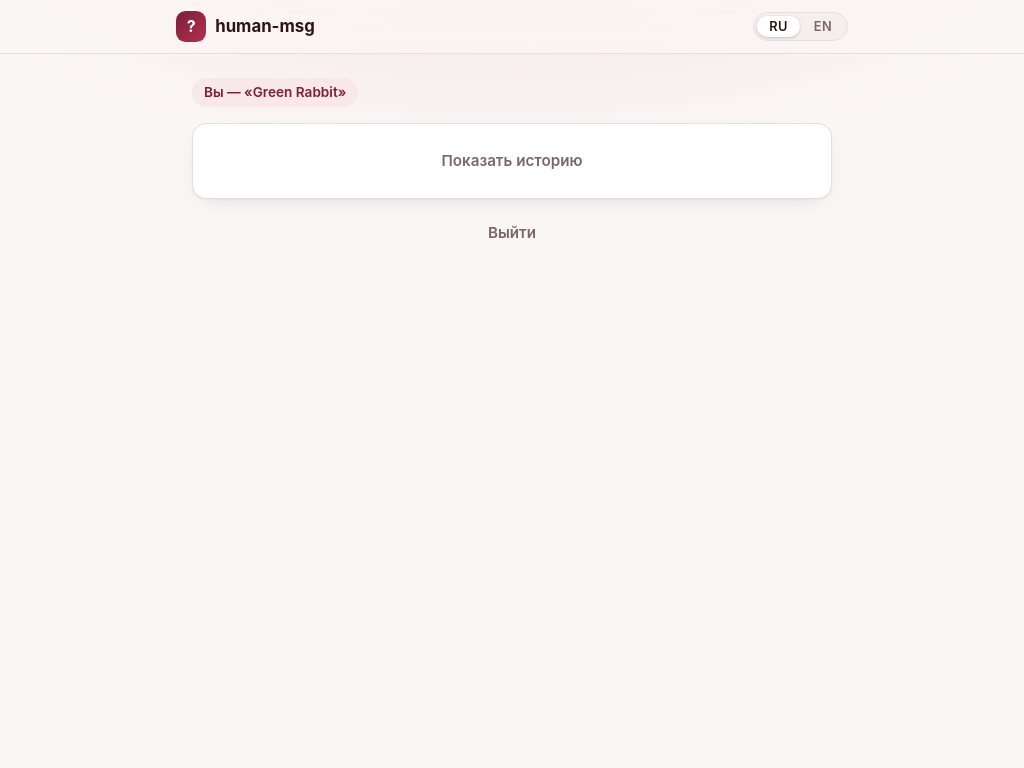
Test: Home and the WebSocket › connects after sign-in and closes the socket on sign-out
expect the text "Вы — «Green Rabbit»" is shown: met, box [192, 78, 358, 107]
Click the button "Выйти": point(512, 233) [476, 215, 548, 250]
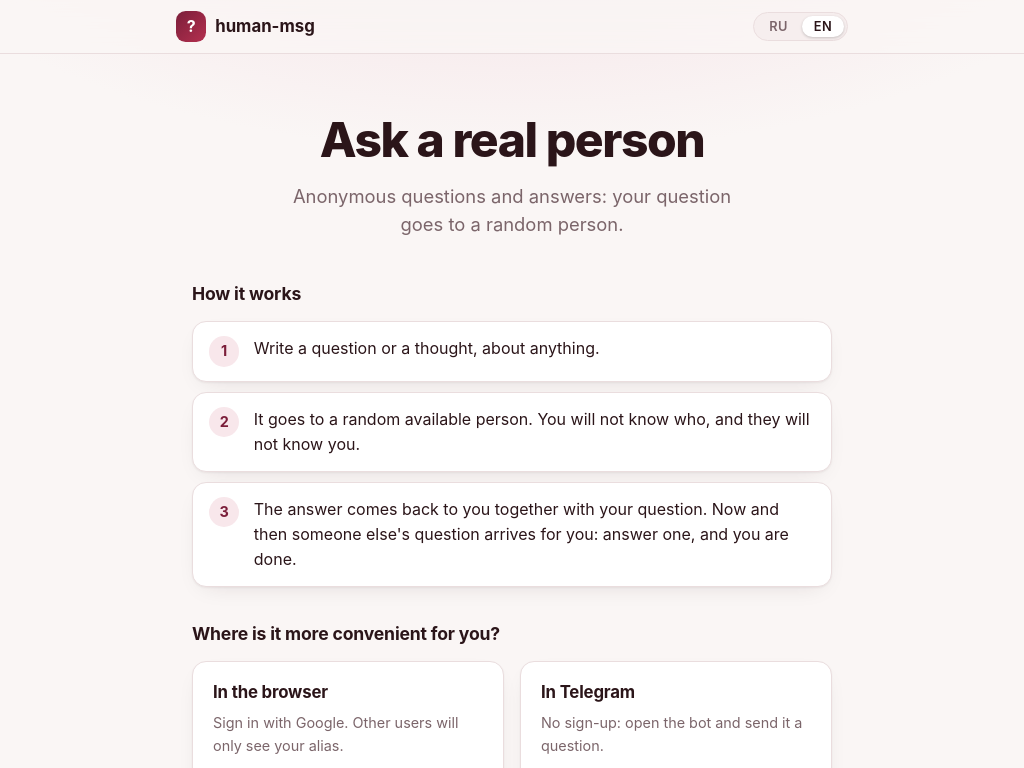
expect the heading "Ask a real person" is shown: met, box [320, 110, 704, 169]
